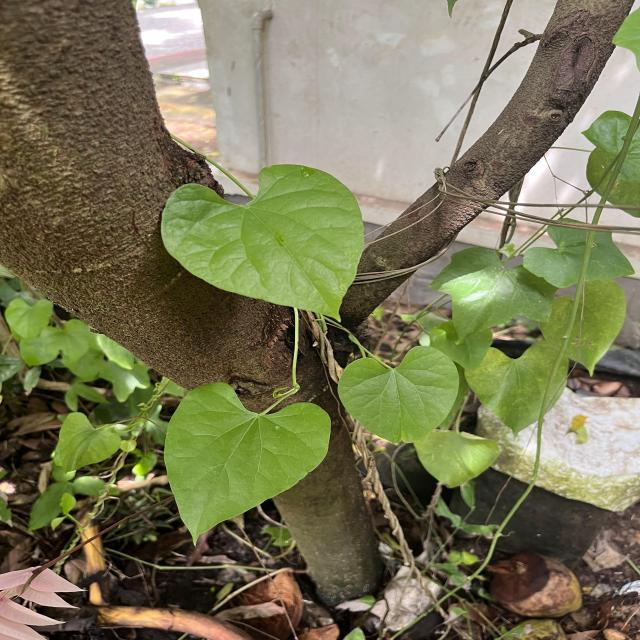Tinospora cordifolia: (158, 161, 368, 325), (161, 380, 333, 548), (337, 344, 462, 447)
